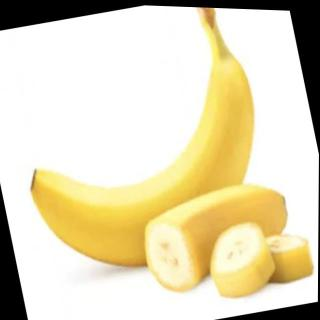banana: (6, 42, 286, 298), (132, 165, 303, 301)
